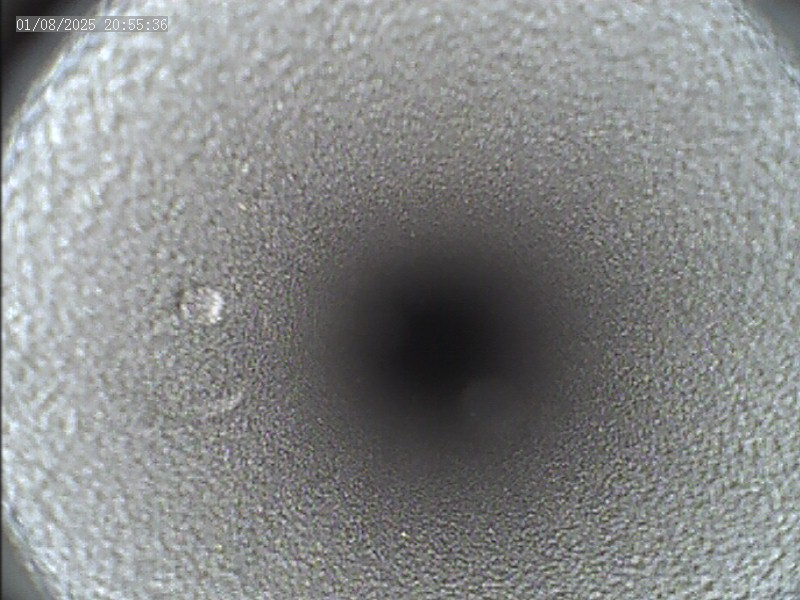defective_area: (172, 281, 228, 332)
